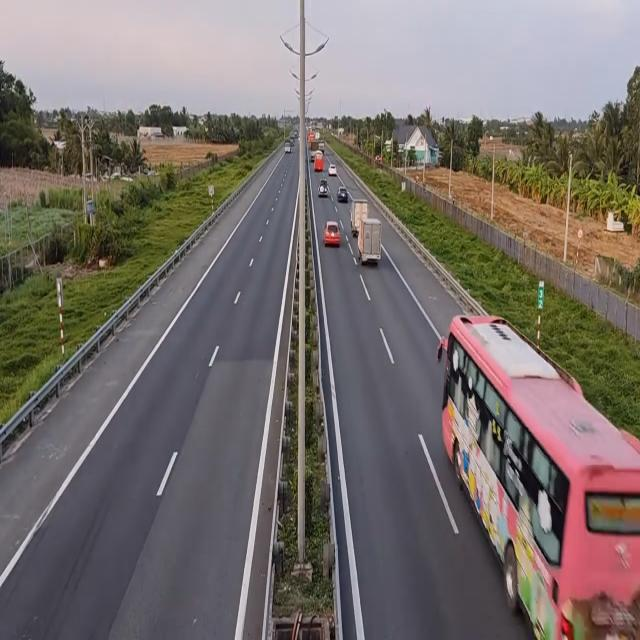bus: (436, 307, 638, 636)
car: (324, 220, 342, 246), (318, 177, 329, 197), (338, 184, 350, 202), (327, 164, 336, 178)
truck: (357, 220, 382, 268), (348, 197, 368, 235)
